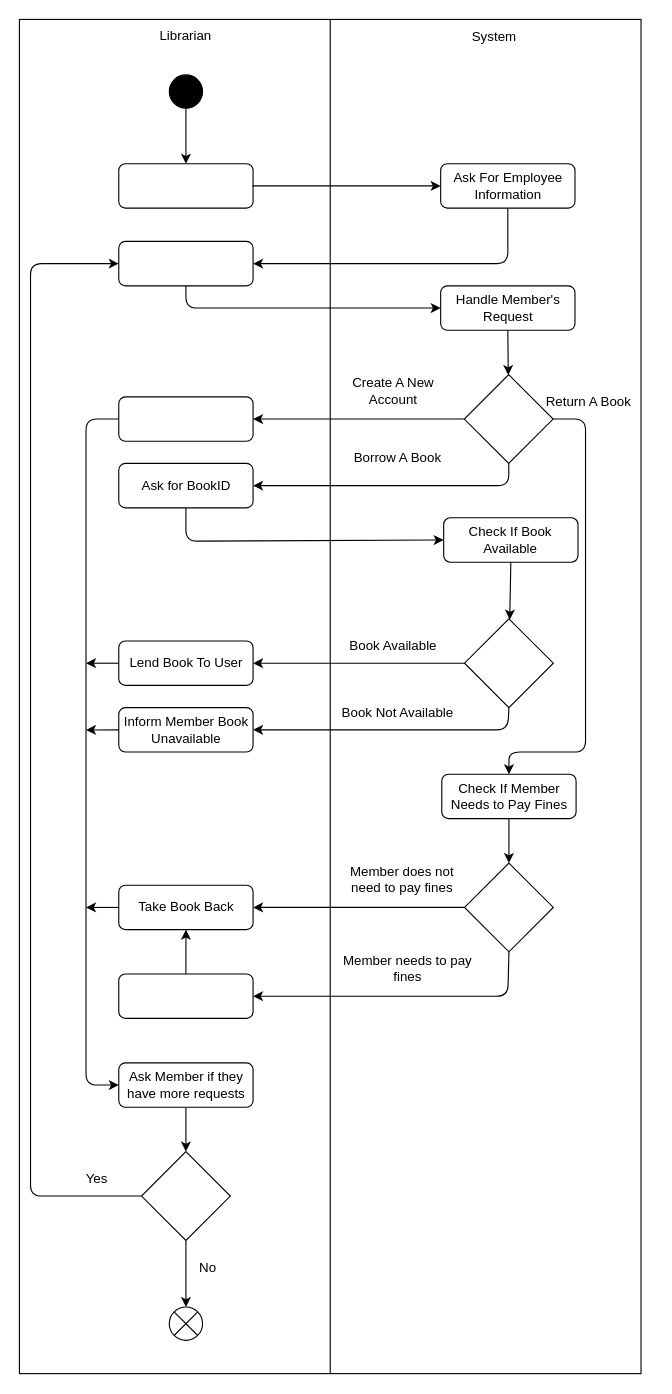
The diagram is 672 pixels wide and 1394 high, and some of its shapes have lost their labels. The centre of each missing label's shape, as x and y in pixels:
Ask for Member Information: the point at 185,418
Ask Member To Pay Fines: the point at 185,995
Login into System: the point at 185,185
Take Member's Requests: the point at 185,263
